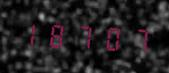eight: (44, 17, 69, 52)
one: (18, 16, 43, 50)
seven: (70, 19, 95, 53), (122, 22, 147, 56)
zero: (96, 20, 121, 54)
